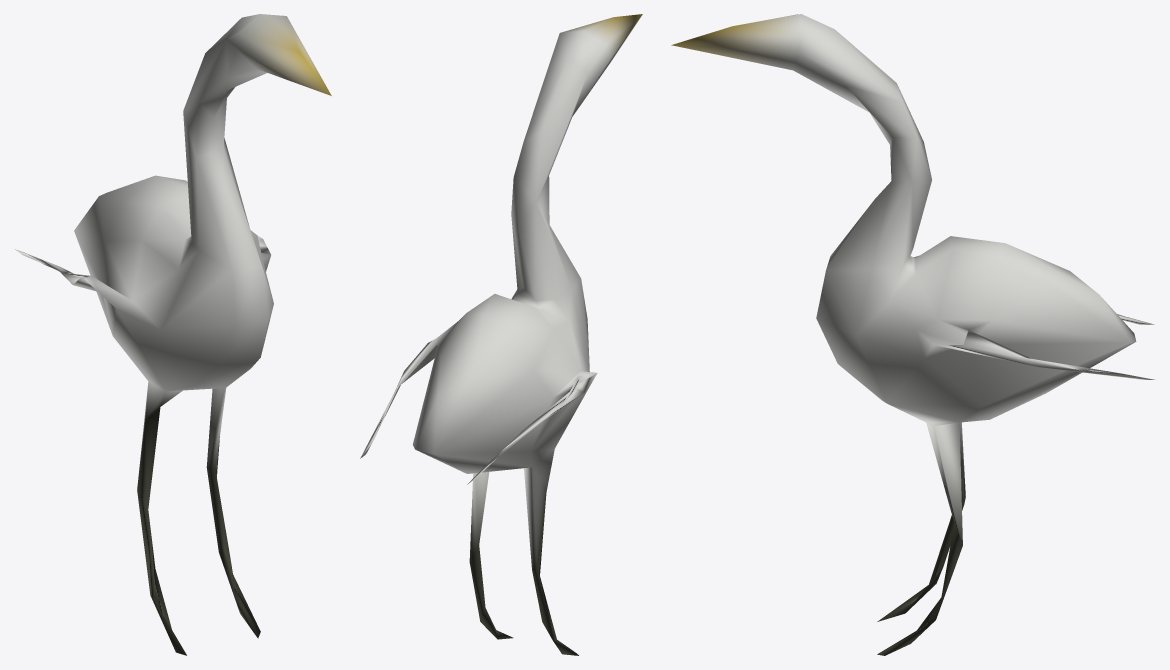
The model's file is grey-heron-1.glb.
3 renders of one model, left to right at view 1: azimuth 30°, elevation 25°; view 2: azimuth 150°, elevation 25°; view 3: azimuth 270°, elevation 25°, orthographic. The views are drawn at different scales.
Visible parts, largest first — view 1: grey-heron; view 2: grey-heron; view 3: grey-heron.
Part boxes in pixels (x1,y1,x2,y2): grey-heron: [15, 14, 331, 655]; grey-heron: [360, 14, 642, 655]; grey-heron: [671, 14, 1154, 655].
Size of the model in its own units: 0.3085 by 1.07 by 0.7522.
